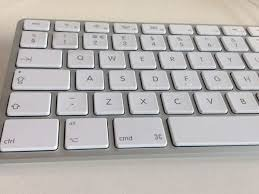keyboard: (4, 21, 259, 159)
